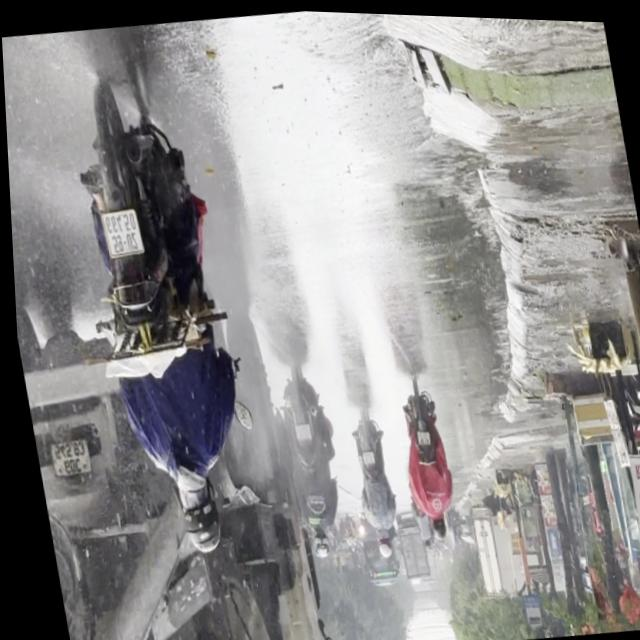helmet: (166, 471, 220, 557)
licenseplate: (49, 66, 266, 567)
nohelmet: (98, 209, 141, 257)
